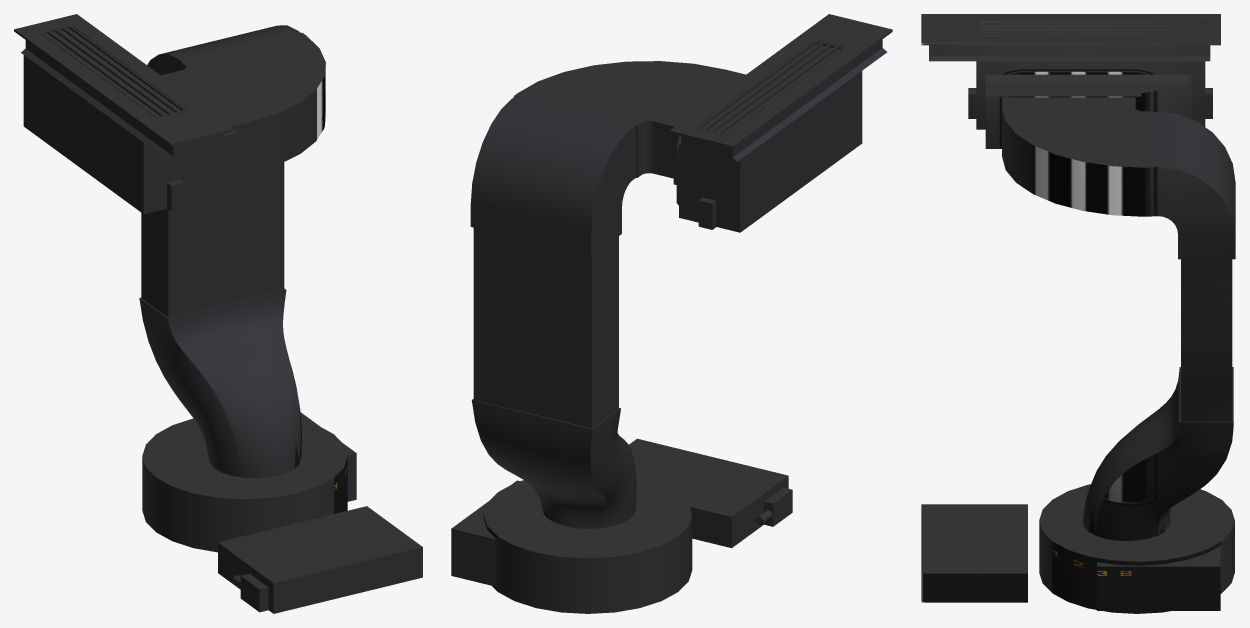
File: CSDA_7001_FL.glb
3 views of the same model, side by side, from view 1: azimuth 30°, elevation 25°; view 2: azimuth 150°, elevation 25°; view 3: azimuth 270°, elevation 25° (orthographic). The views are drawn at different scales.
Visible parts, largest first — view 1: 11402480_NER_CSDA7001FL 27700150_NER_11402480_CSDA7001F_6aa9; view 2: 11402480_NER_CSDA7001FL 27700150_NER_11402480_CSDA7001F_6aa9; view 3: 11402480_NER_CSDA7001FL 27700150_NER_11402480_CSDA7001F_6aa9.
Boxes of the visible parts, <box> form: 11402480_NER_CSDA7001FL 27700150_NER_11402480_CSDA7001F_6aa9: <box>14,14,422,613</box>; 11402480_NER_CSDA7001FL 27700150_NER_11402480_CSDA7001F_6aa9: <box>451,14,892,613</box>; 11402480_NER_CSDA7001FL 27700150_NER_11402480_CSDA7001F_6aa9: <box>921,14,1235,613</box>.
Bounding box in the file's own units: 0.5329 × 0.904 × 0.5455.
Materials: 2 (1 with a texture image).
